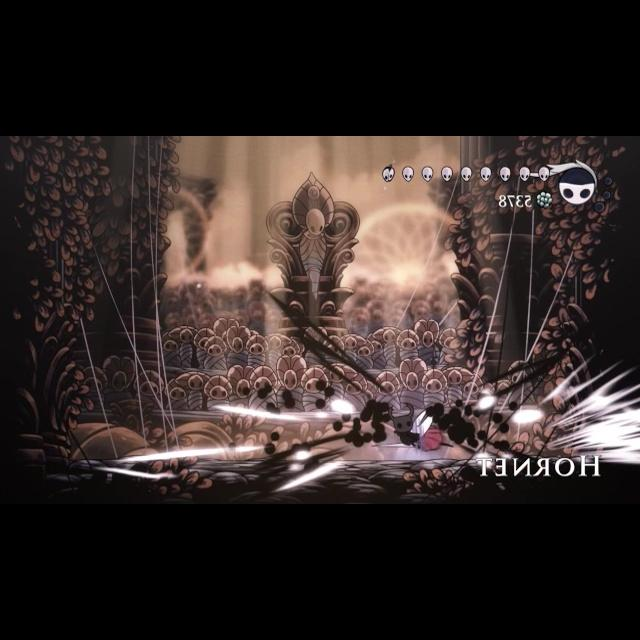Enemy: (372, 408, 452, 454)
PlayerDamaged: (386, 397, 420, 447)
